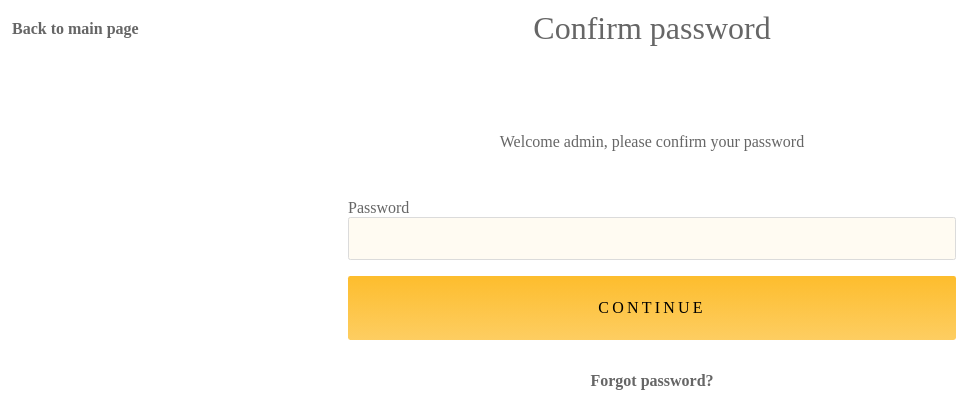
ConfirmPassword Component › :: incorrect password responds 401 and displays error message
In the password field labelled "Password": point(652, 239) [348,218,956,260], type "lolLOL123"
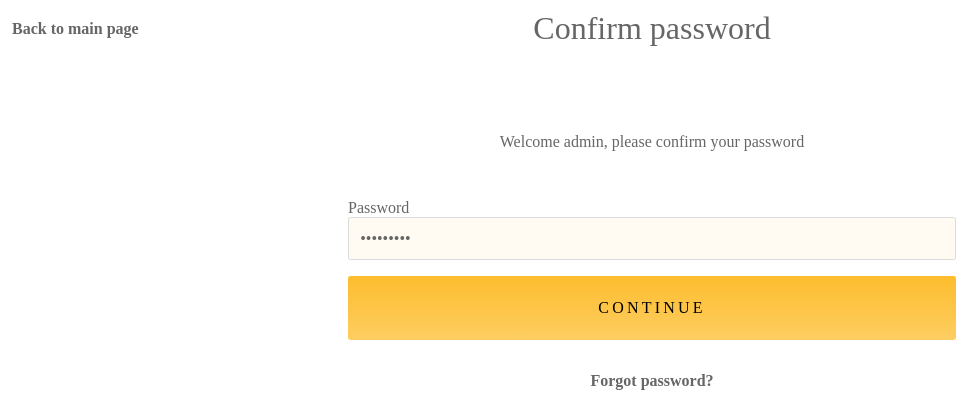
Click the button "CONTINUE": point(652, 308) [348,276,956,340]
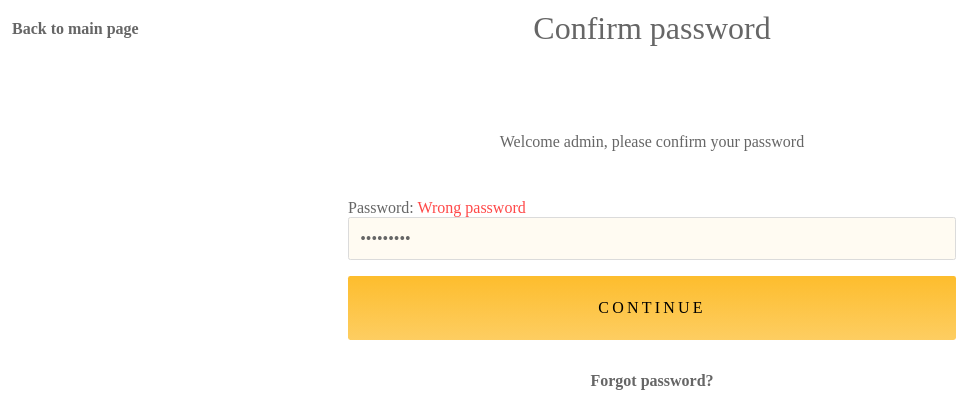
Expected: the text "Wrong password" is shown, [418,199,526,216]
